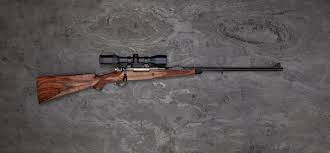gun: (35, 52, 285, 106)
